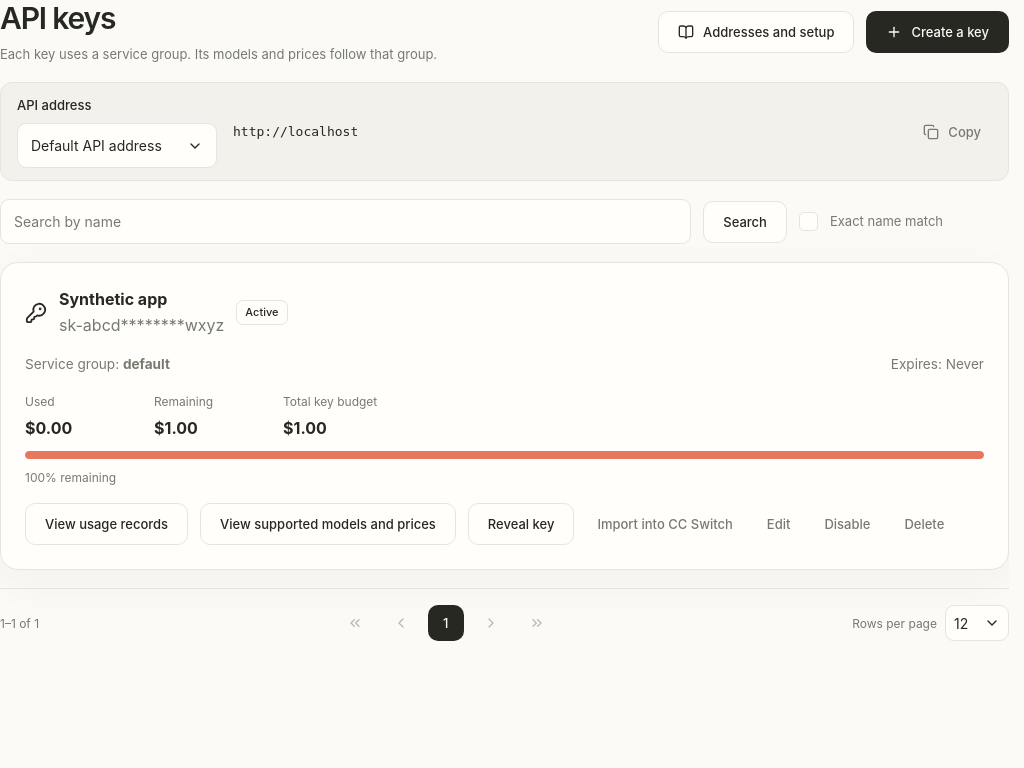
keeps setup in the page actions and search options together so keys follow the toolbar
Expected: the text "Synthetic app" is shown, [59,289,167,309]
Expected: the button "Create a key" is enabled, [866,11,1009,53]
Click the button "Addresses and setup": (756, 32) [658,11,854,53]
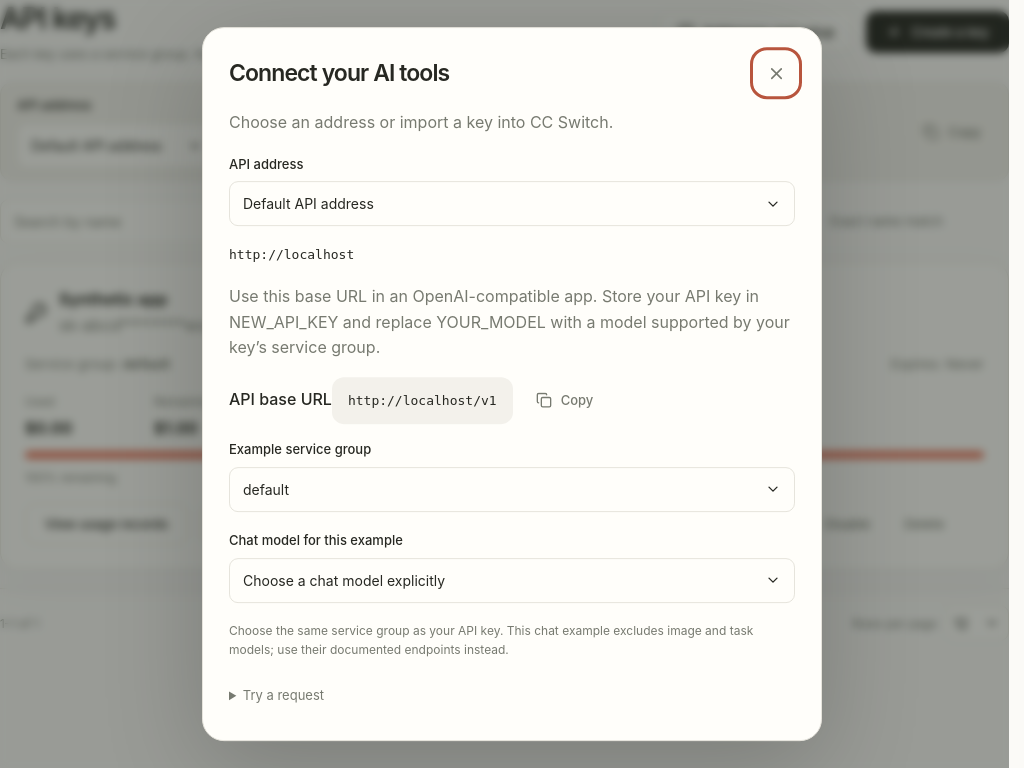
Expected: the dialog "Connect your AI tools" is shown, [202,27,822,741]
Press Escape
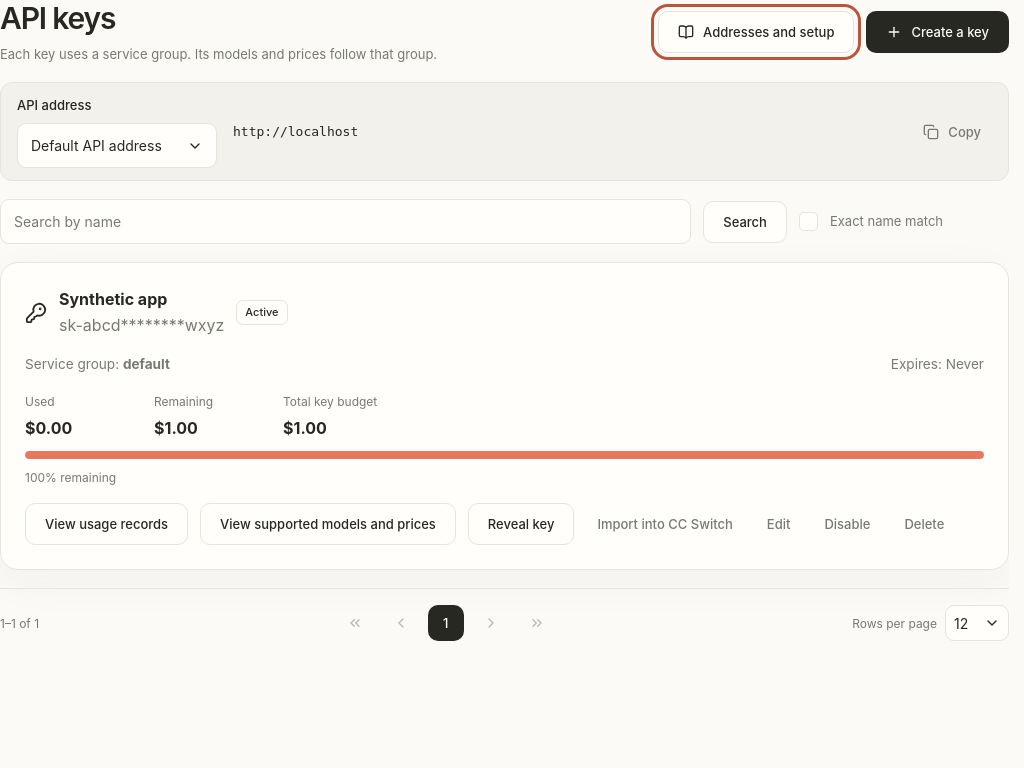
Expected: the text "Synthetic app" is shown, [59,289,167,309]
Expected: the dialog is gone
